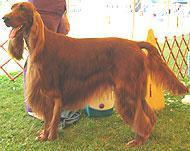Irish_setter: (2, 0, 188, 148)
